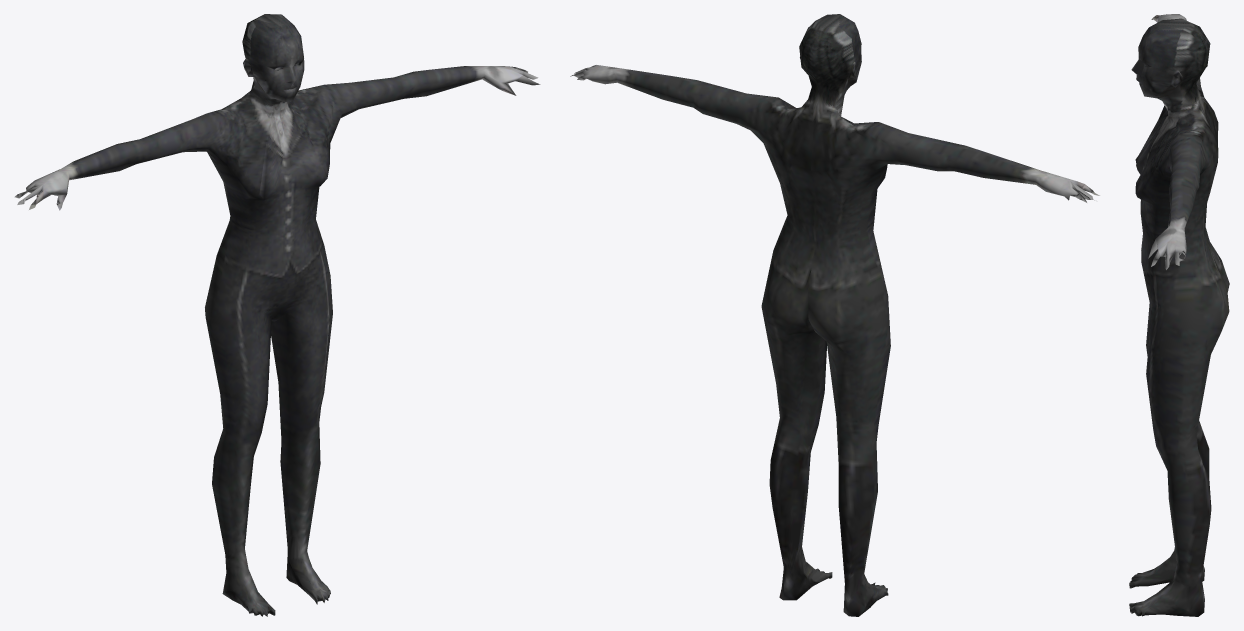
The model's file is pg_mourning_widow.obj.
3 renders of one model, left to right at view 1: azimuth 30°, elevation 25°; view 2: azimuth 150°, elevation 25°; view 3: azimuth 270°, elevation 25°, orthographic.
Parts seen in each view (by area): view 1: pg_mourning_widow; view 2: pg_mourning_widow; view 3: pg_mourning_widow.
Part boxes in pixels (<box>): pg_mourning_widow: <box>14,14,540,616</box>; pg_mourning_widow: <box>570,14,1099,616</box>; pg_mourning_widow: <box>1129,14,1229,616</box>.
Size of the model in its own units: 1.74 by 1.83 by 0.2896.
1 material, 1 textured.
